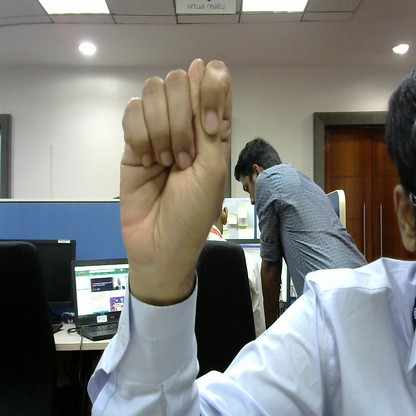t: (118, 55, 234, 282)
